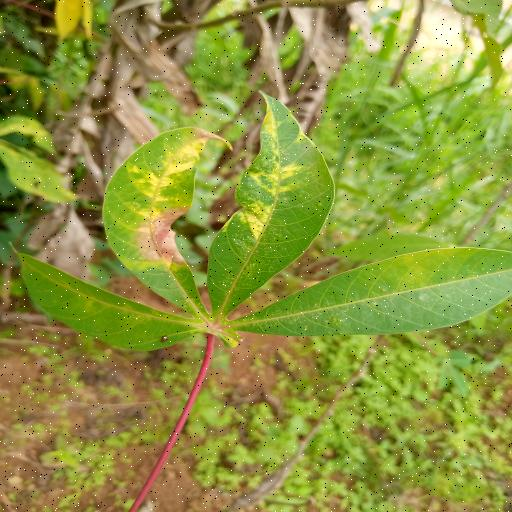Cassava_Mosaic: (11, 94, 512, 356)
